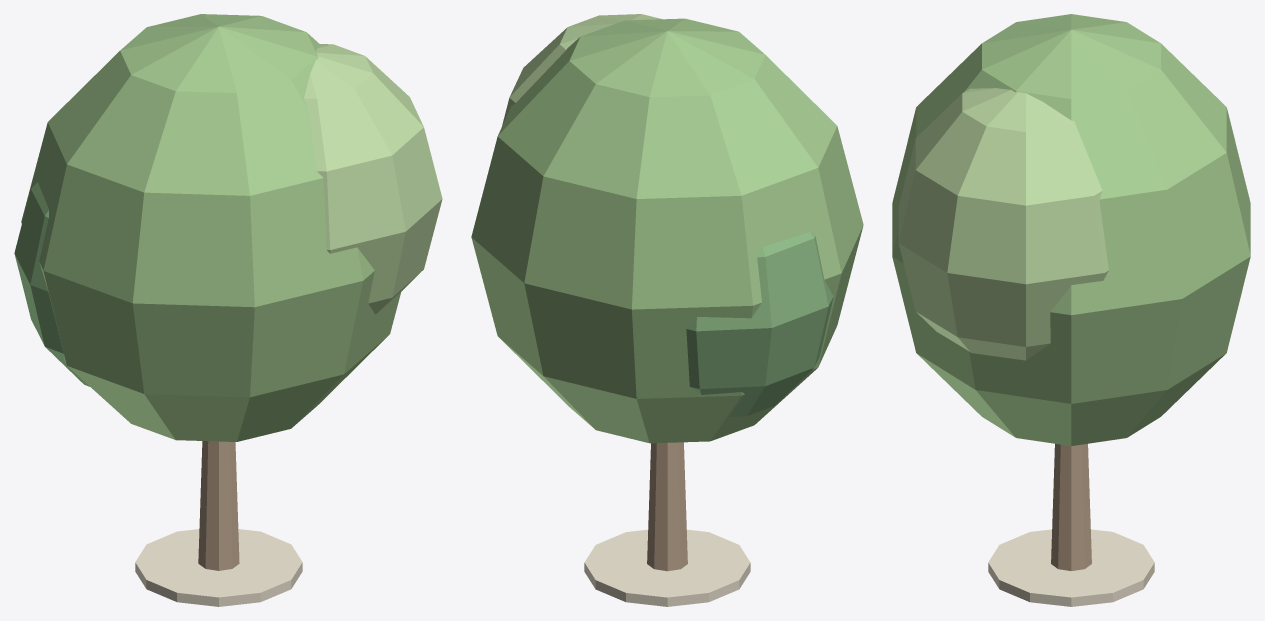
File: tree.glb
The picture shows the model from 3 angles, left to right: view 1: azimuth 30°, elevation 25°; view 2: azimuth 150°, elevation 25°; view 3: azimuth 270°, elevation 25°; orthographic projection.
Bounding box in the file's own units: 3.18 × 4.6 × 2.76.
